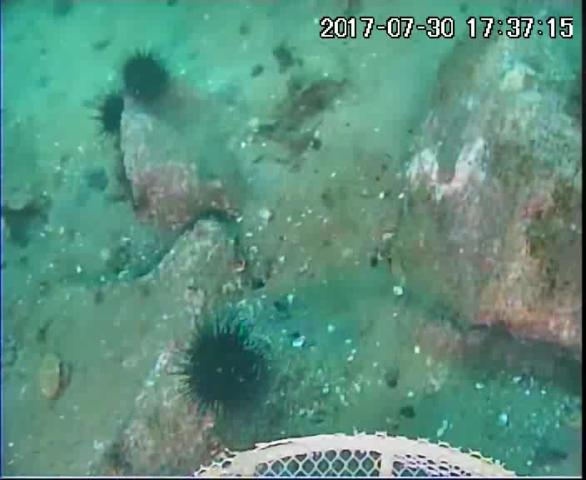echinus: (180, 322, 272, 415), (118, 47, 173, 107), (96, 89, 127, 138)
scallop: (36, 351, 70, 399)
